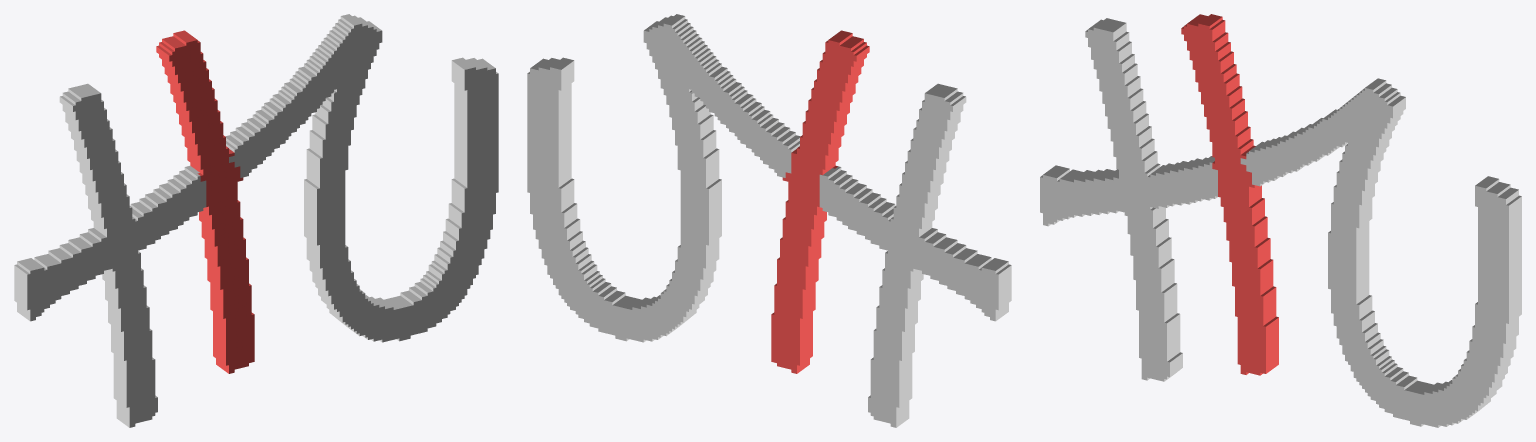
3 renders of one model, left to right at view 1: azimuth 30°, elevation 25°; view 2: azimuth 150°, elevation 25°; view 3: azimuth 330°, elevation 25°, orthographic.
Size of the model in its own units: 41.5 by 31.25 by 2.
